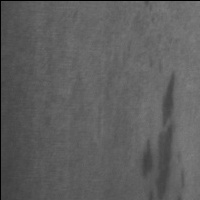inclusion: (148, 103, 186, 200), (157, 67, 181, 131), (138, 134, 156, 178)
